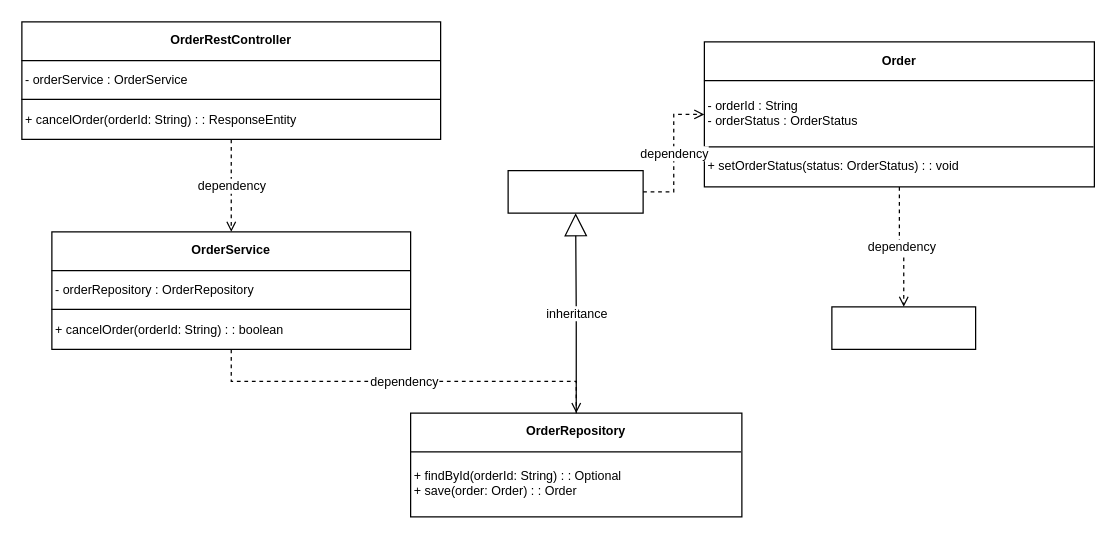
The diagram is 1116 pixels wide and 539 high, and some of its shapes have lost their labels. Each missing label, with the centre of its shape:
JpaRepository: the point at 575,191
OrderStatus: the point at 903,327
